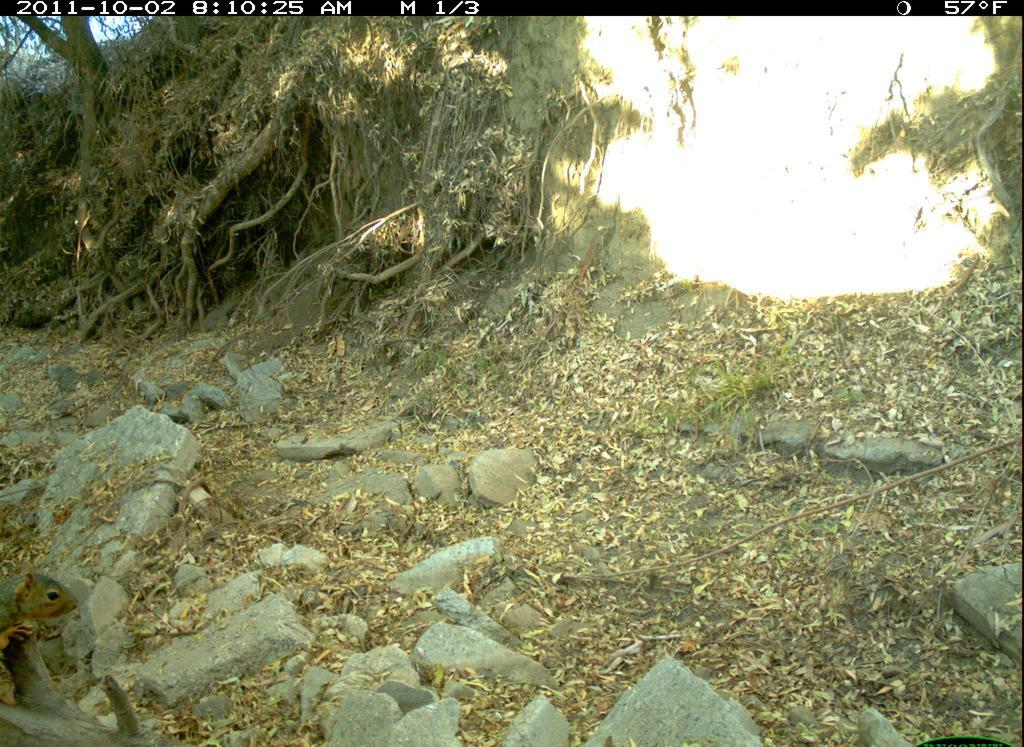squirrel: (1, 561, 89, 664)
